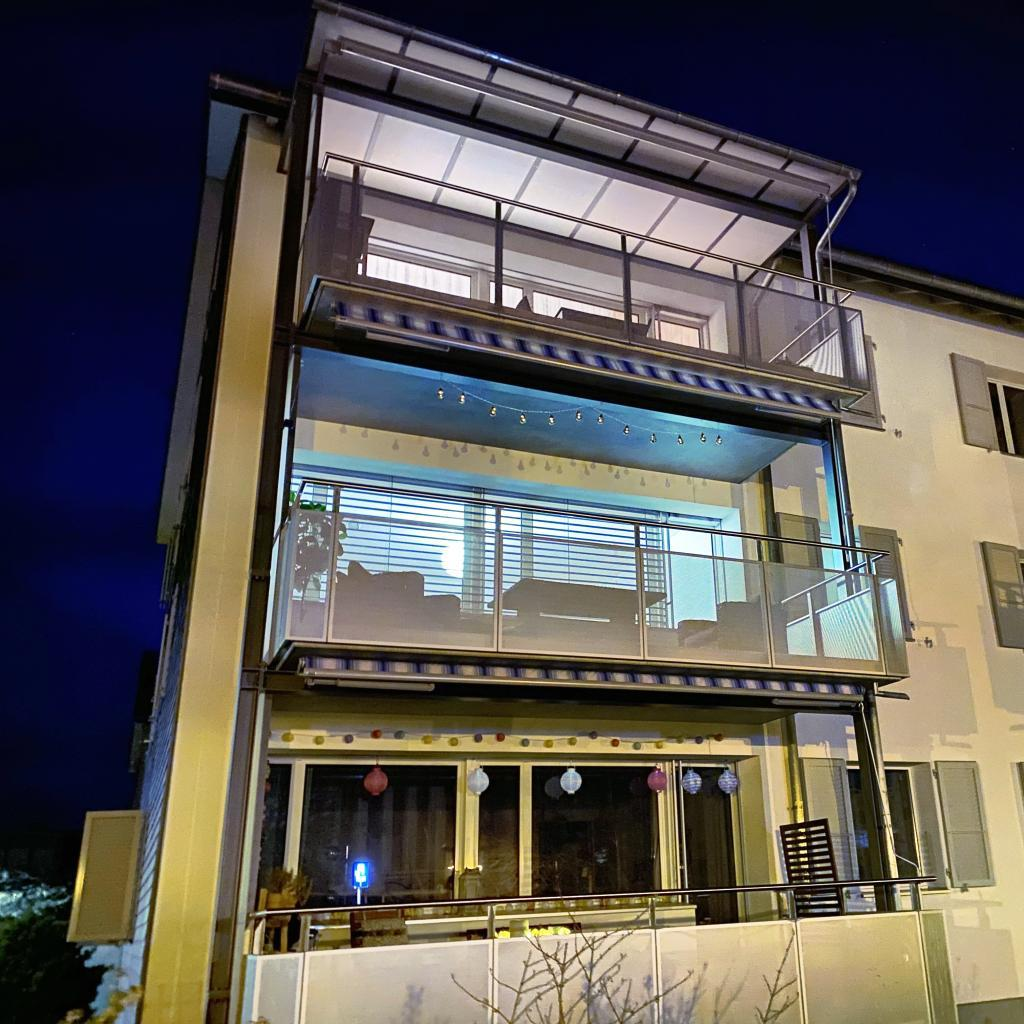balcony-fence: (295, 149, 871, 407), (266, 476, 911, 681), (241, 873, 961, 1024)
facade: (65, 0, 1024, 1024)
vegetation: (450, 902, 696, 1024), (0, 866, 144, 1024), (289, 491, 349, 623), (754, 925, 801, 1024), (263, 863, 314, 906)
window: (254, 755, 746, 925), (289, 469, 727, 628), (366, 243, 704, 348), (799, 757, 996, 896), (776, 511, 916, 643), (65, 808, 143, 942), (948, 352, 1024, 458), (978, 540, 1024, 650), (842, 334, 886, 433), (1016, 761, 1024, 812)
